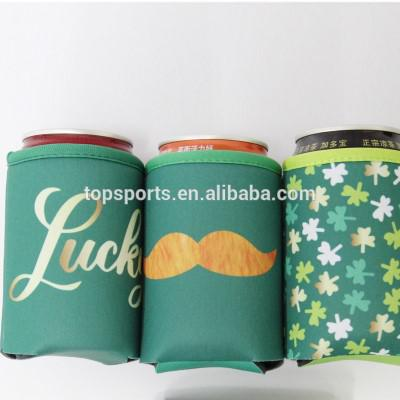beer: (11, 129, 400, 371)
